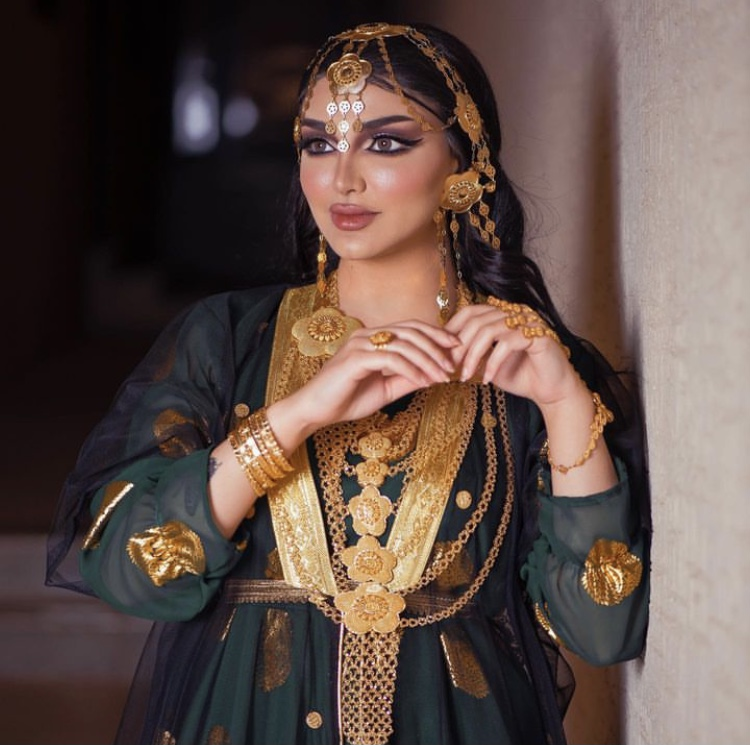Saudi_Founding_Day: (41, 18, 654, 745)
